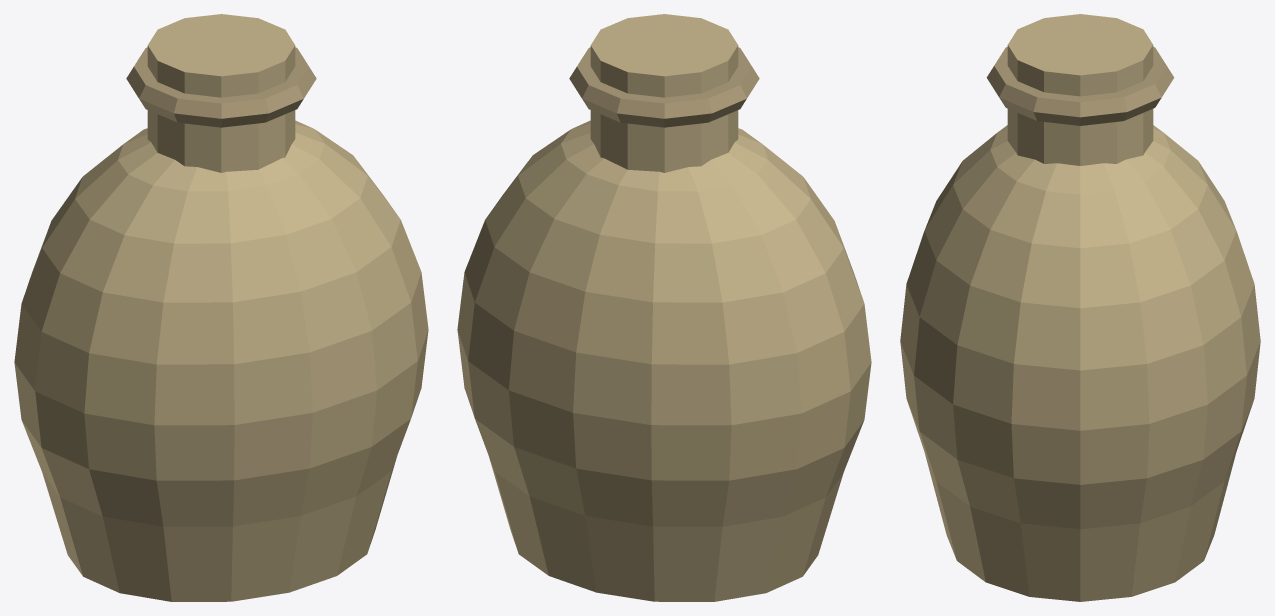
Rendered from prop_saco_cafe.glb.
3 renders of one model, left to right at view 1: azimuth 30°, elevation 25°; view 2: azimuth 150°, elevation 25°; view 3: azimuth 270°, elevation 25°, orthographic.
Visible parts, largest first — view 1: PropSacoCafe; view 2: PropSacoCafe; view 3: PropSacoCafe.
Boxes of the visible parts, <box> form: PropSacoCafe: <box>14,14,428,601</box>; PropSacoCafe: <box>457,14,871,601</box>; PropSacoCafe: <box>900,14,1260,601</box>.
Bounding box in the file's own units: 0.7 × 0.941 × 0.595.
